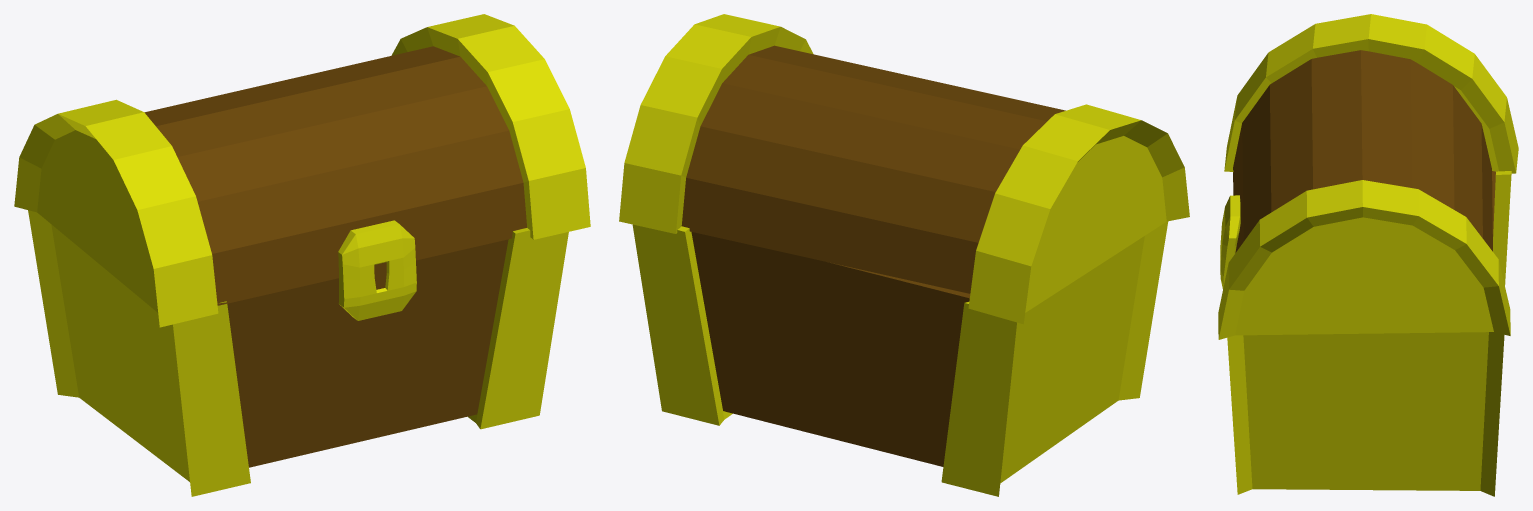
The model's file is 10-chest.fbx.
3 renders of one model, left to right at view 1: azimuth 30°, elevation 25°; view 2: azimuth 150°, elevation 25°; view 3: azimuth 270°, elevation 25°, orthographic. The views are drawn at different scales.
Parts seen in each view (by area): view 1: Cylinder.012, Cylinder.011, Cylinder.013, Cylinder.014, Cube.005; view 2: Cylinder.012, Cylinder.011, Cylinder.013, Cylinder.014; view 3: Cylinder.011, Cylinder.013, Cylinder.012, Cube.005.
Part boxes in pixels (left/top/right/bottom): Cylinder.012: left=144, top=46, right=526, bottom=305; Cylinder.011: left=14, top=14, right=590, bottom=327; Cylinder.013: left=28, top=210, right=568, bottom=496; Cylinder.014: left=227, top=239, right=508, bottom=467; Cube.005: left=338, top=220, right=416, bottom=320; Cylinder.012: left=681, top=45, right=1065, bottom=293; Cylinder.011: left=619, top=14, right=1189, bottom=324; Cylinder.013: left=632, top=221, right=1168, bottom=496; Cylinder.014: left=691, top=232, right=970, bottom=466; Cylinder.011: left=1218, top=14, right=1518, bottom=339; Cylinder.013: left=1227, top=170, right=1511, bottom=496; Cylinder.012: left=1233, top=50, right=1492, bottom=252; Cube.005: left=1220, top=195, right=1240, bottom=288.
Bounding box in the file's own units: 131 × 97.13 × 85.74.
